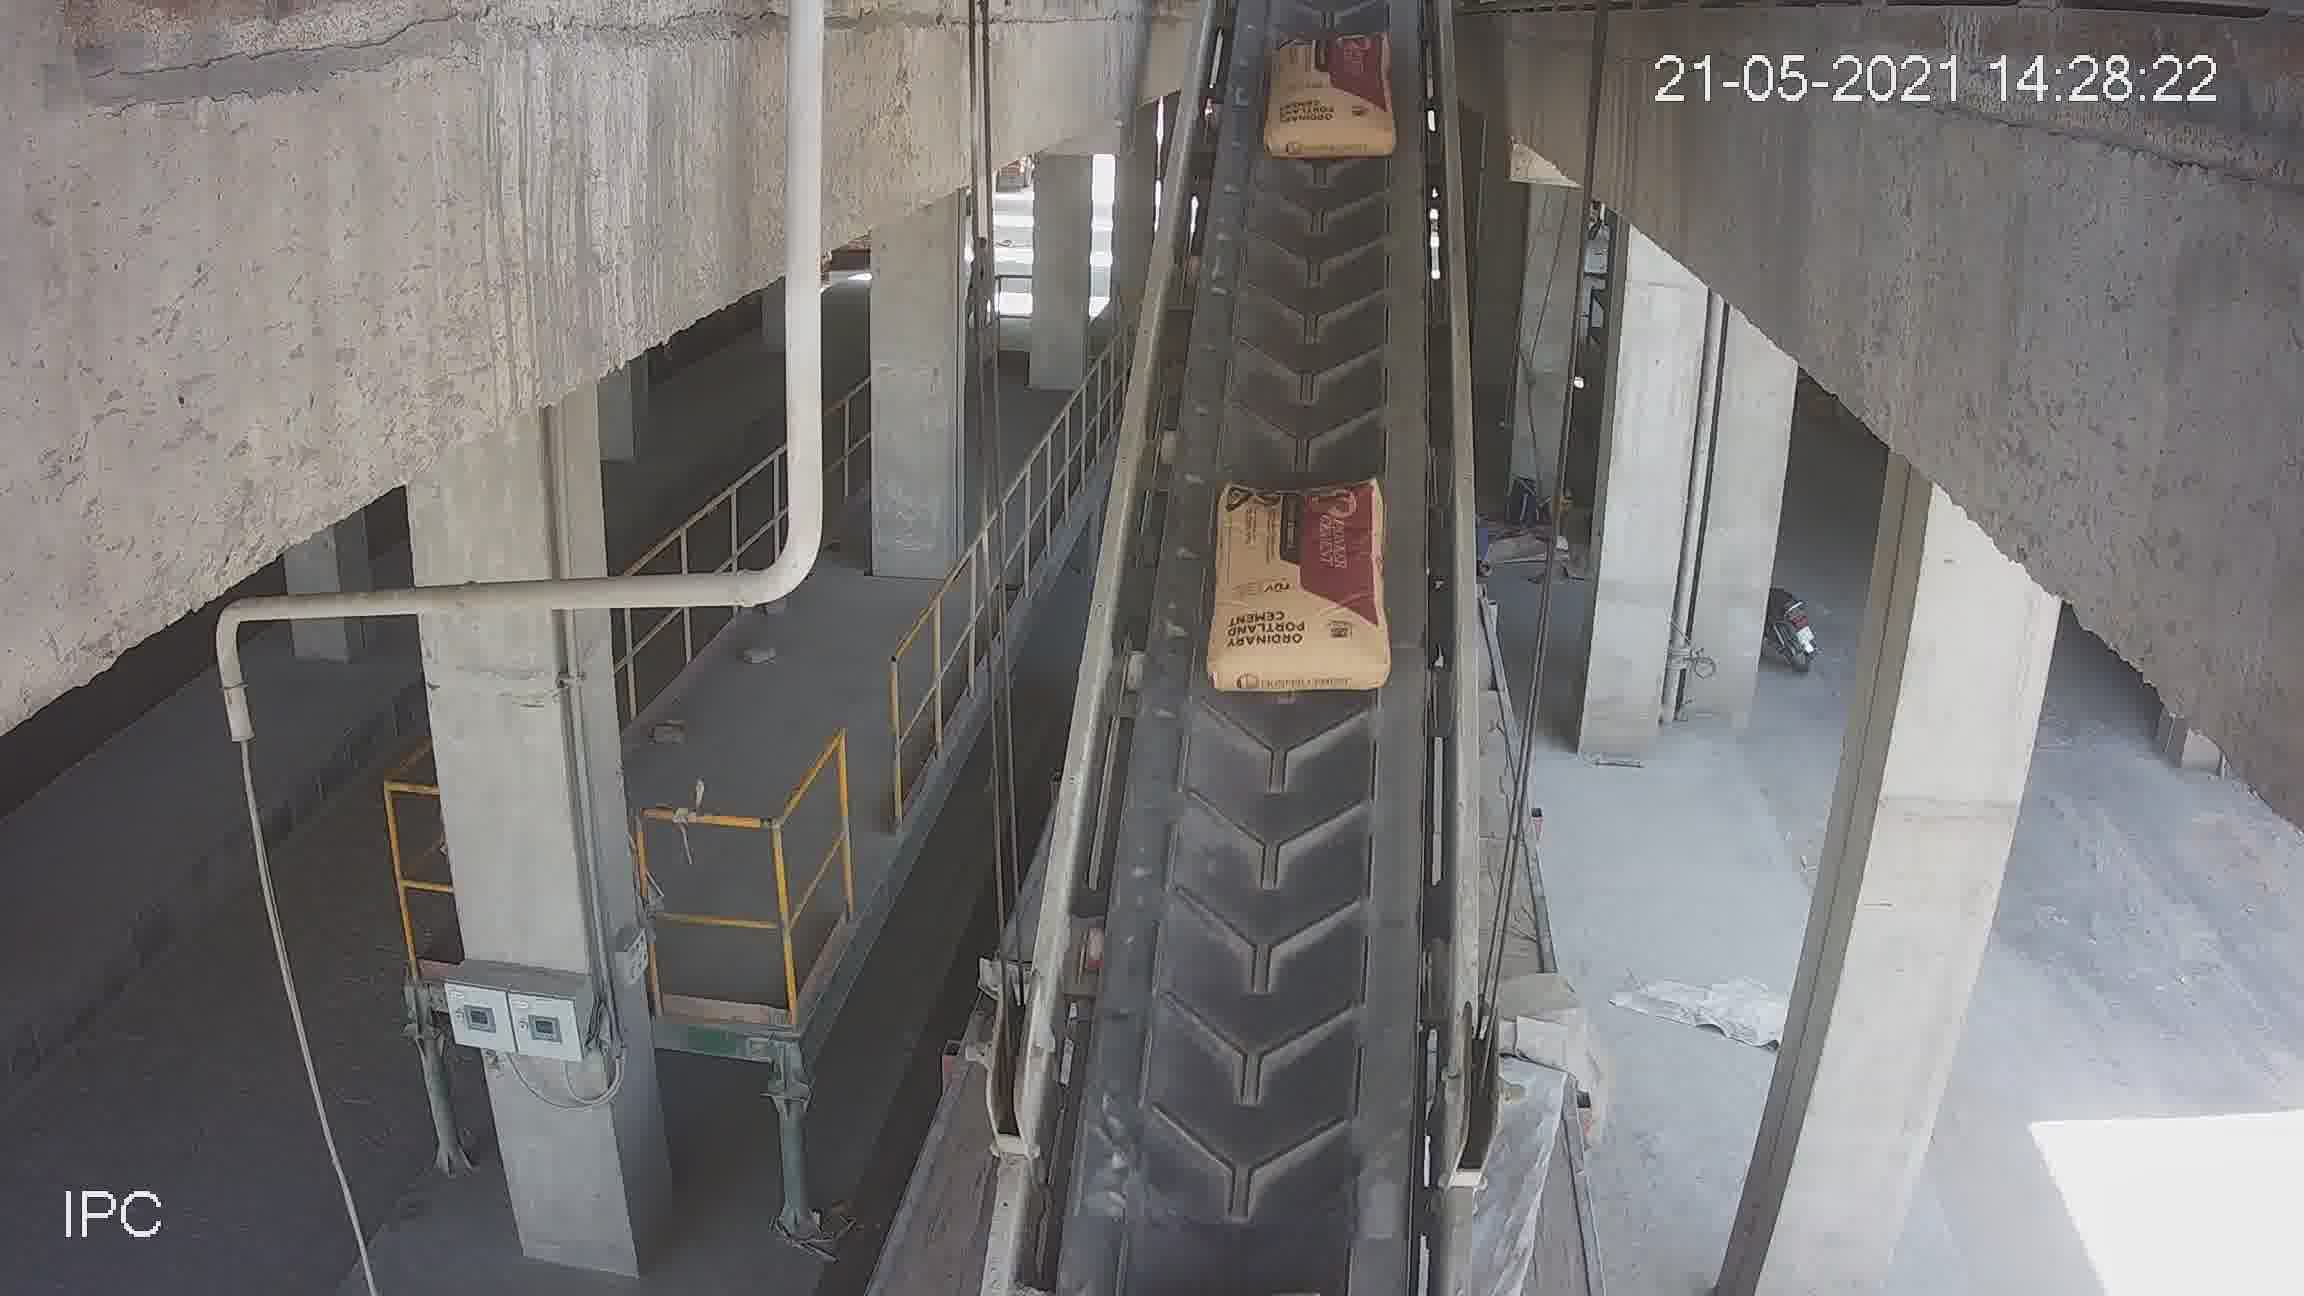bag: (1228, 487, 1393, 701), (1282, 38, 1389, 144)
belt: (1060, 30, 1492, 1282)
